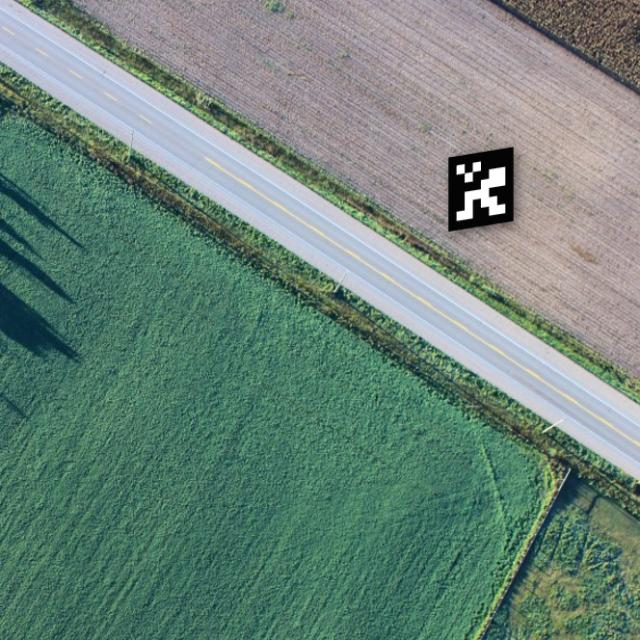marker: (441, 138, 527, 240)
